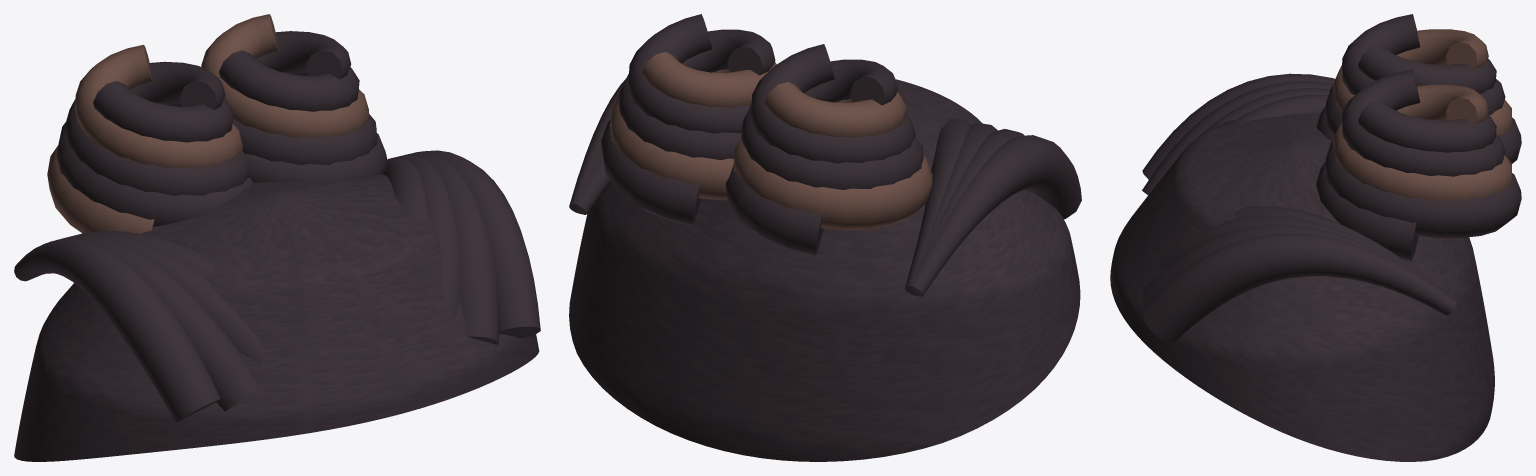
Rendered from hair_bun_default.gltf.
The picture shows the model from 3 angles, left to right: view 1: azimuth 30°, elevation 25°; view 2: azimuth 150°, elevation 25°; view 3: azimuth 270°, elevation 25°; orthographic projection. The views are drawn at different scales.
Visible parts, largest first — view 1: Braided Bun default; view 2: Braided Bun default; view 3: Braided Bun default.
Boxes of the visible parts, x1,y1,x2,y2 form: Braided Bun default: (14,14,540,461); Braided Bun default: (569,14,1081,461); Braided Bun default: (1110,14,1521,461).
Bounding box in the file's own units: 0.4721 × 0.3553 × 0.3891.
2 materials, 2 textured.
